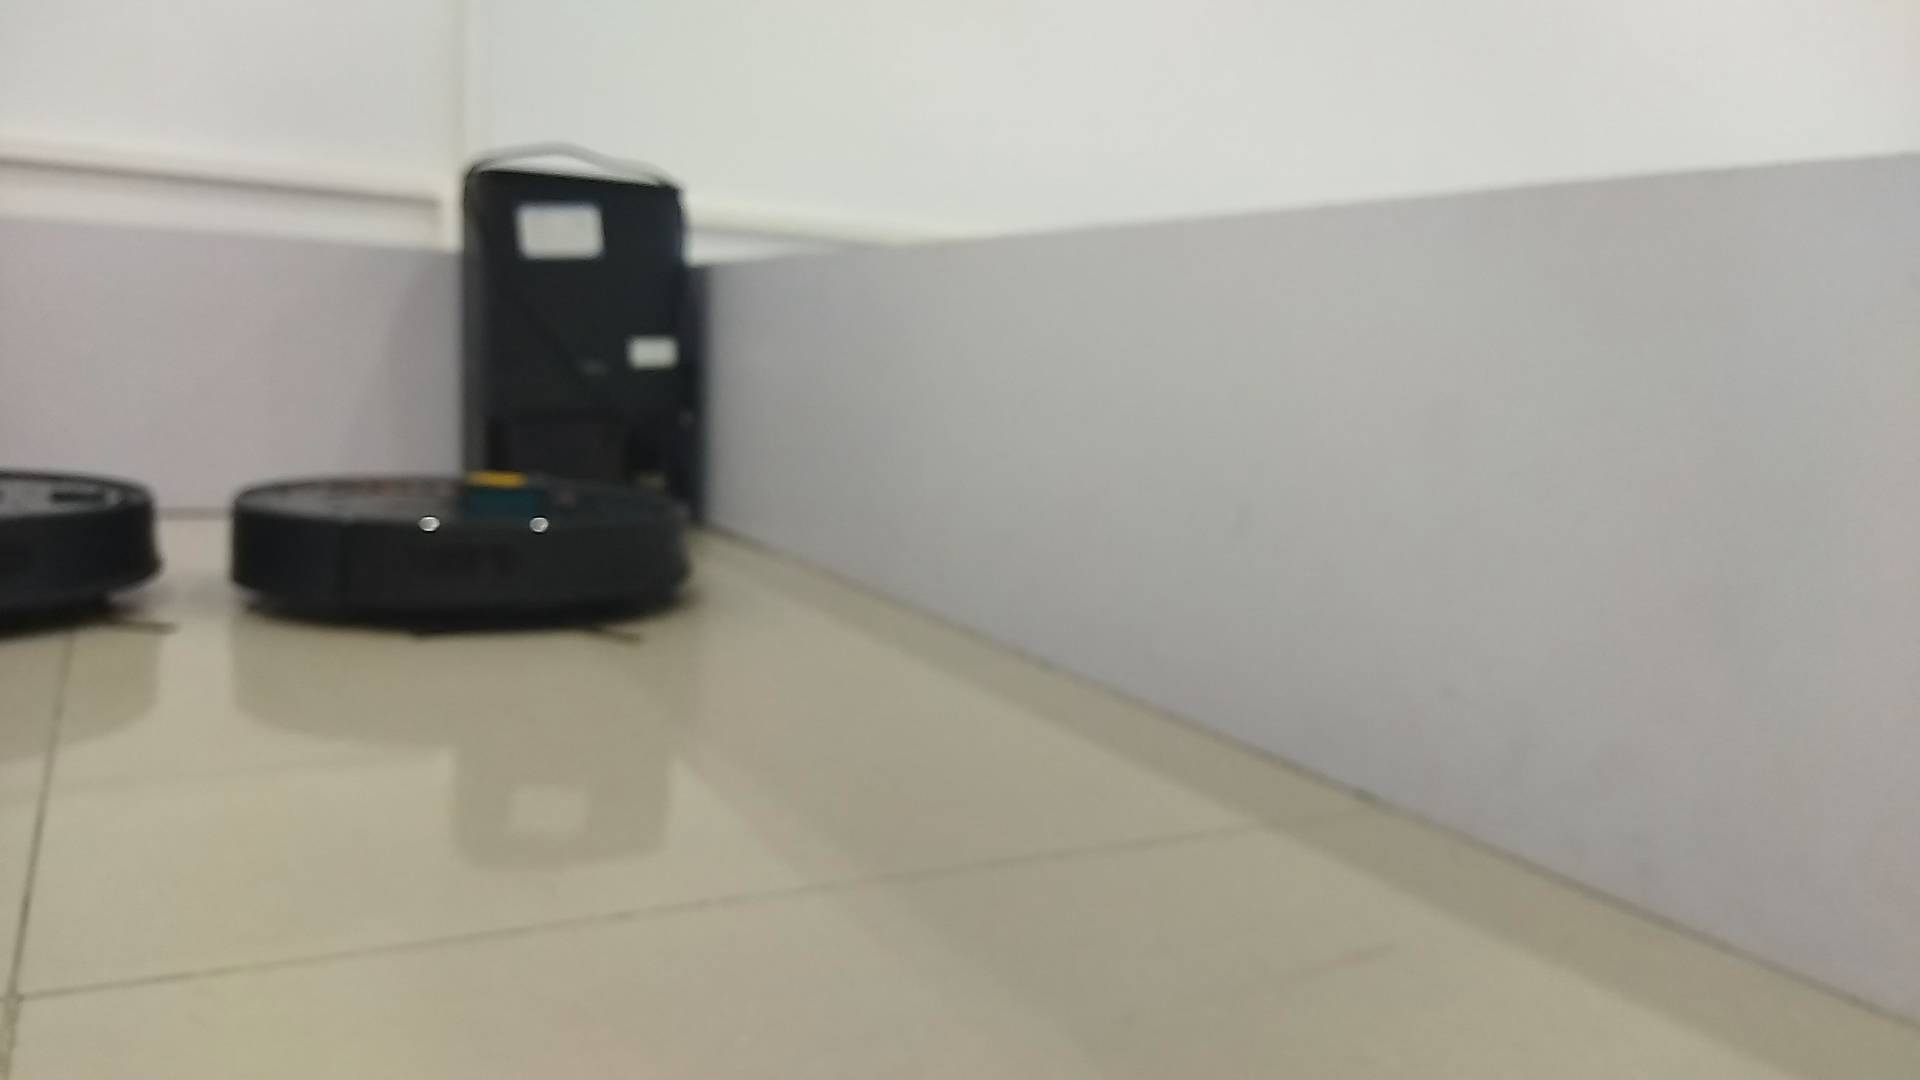dust collecting barrel: (462, 169, 699, 525)
